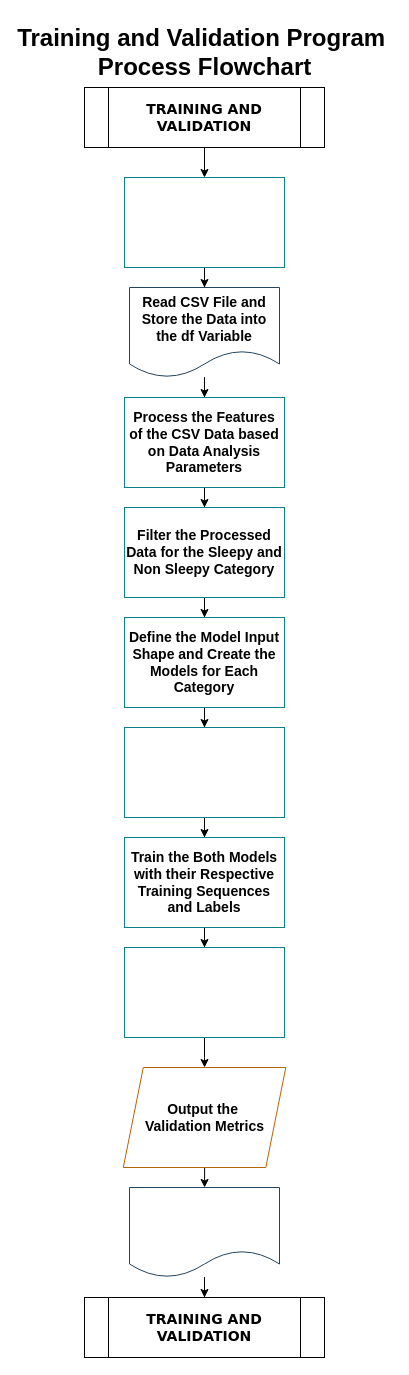
Some shapes in this 409 by 1375 pixel diagram are drawn without their labels. The shapes that lost their labels are listed below. From the top down, each one's centre as x and y in pixels, then its label:
At (204,222): "Initialize Data Path, Variables, and Functions".
At (204,772): "Prepare the Training Data into Sequences of 100 Frames or Time Sequence".
At (204,992): "Validate Both Models and Compute for the Combined Metrics".
At (204,1232): "Save Both Sleepy and Non-Sleepy Models as Keras".
